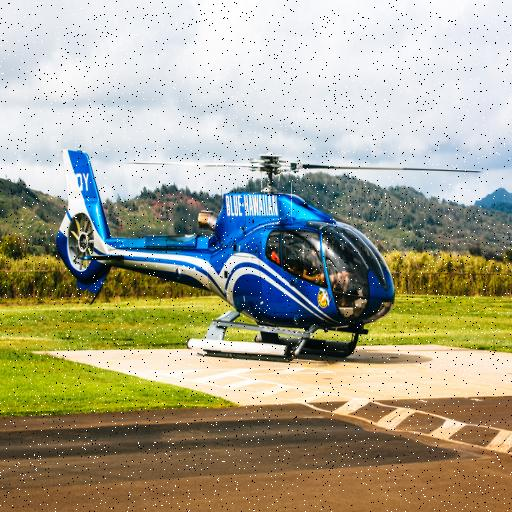helicopter: (60, 150, 486, 362)
